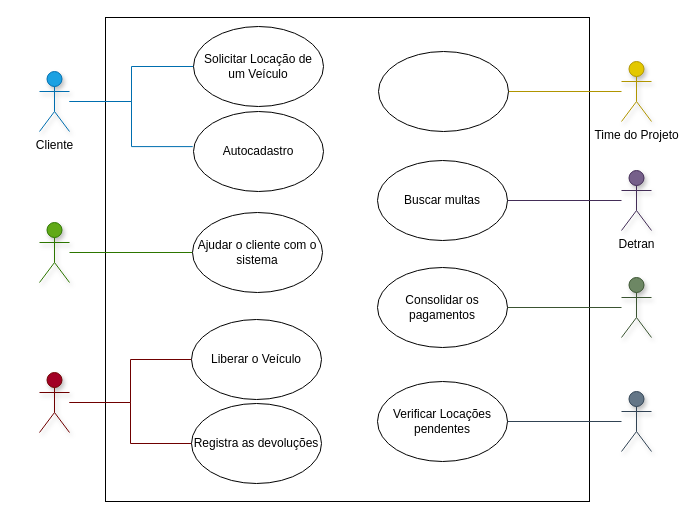
Some shapes in this 696 by 519 pixel diagram are drawn without their labels. The shapes that lost their labels are listed below. From the top down, each one's centre as x and y in pixels, then its label:
point (443, 91): Definir as categorias dos veículos
point (55, 254): Atendente
point (637, 308): Sistema de Pagamento
point (55, 404): Time do Pátio
point (637, 422): Operador
